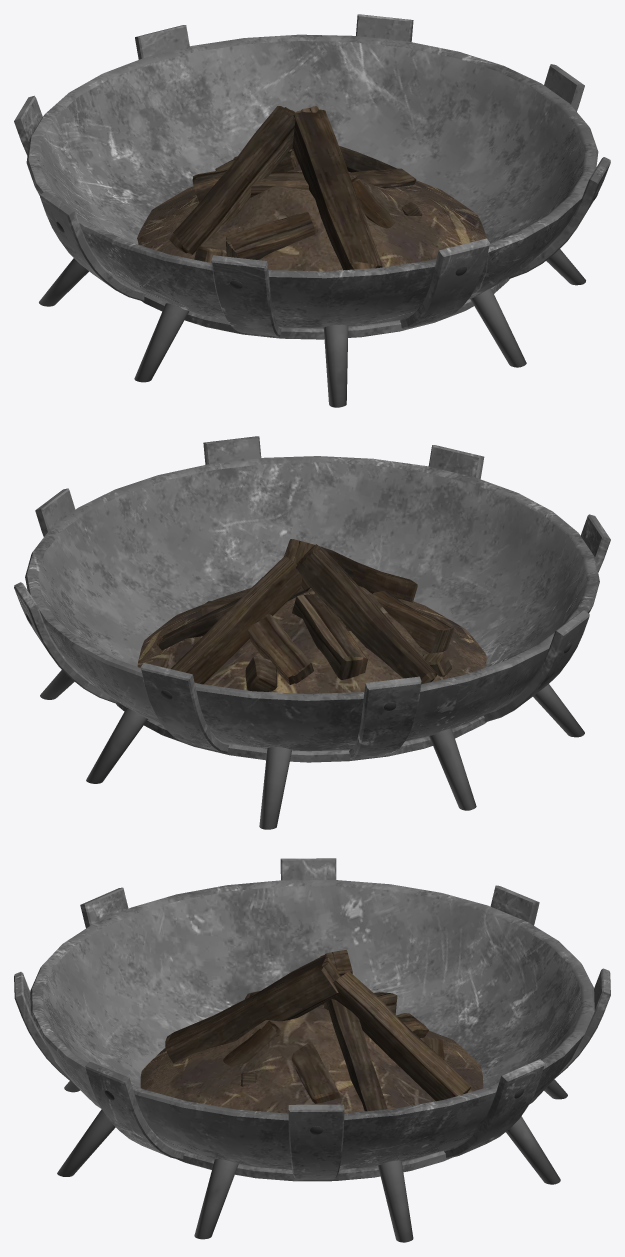
File: val_rune.glb
3 views of the same model, one above another, from view 1: azimuth 30°, elevation 25°; view 2: azimuth 150°, elevation 25°; view 3: azimuth 270°, elevation 25° (orthographic).
Parts seen in each view (by area): view 1: KB3D_VAL_BldgSM_K_StoneCircleA; view 2: KB3D_VAL_BldgSM_K_StoneCircleA; view 3: KB3D_VAL_BldgSM_K_StoneCircleA.
Boxes of the visible parts, x1,y1,x2,y2 form: KB3D_VAL_BldgSM_K_StoneCircleA: (14, 14, 610, 407); KB3D_VAL_BldgSM_K_StoneCircleA: (14, 436, 610, 829); KB3D_VAL_BldgSM_K_StoneCircleA: (14, 858, 610, 1242).
Size of the model in its own units: 1.78 by 0.5869 by 1.78.
Materials: 5 (5 with a texture image).
